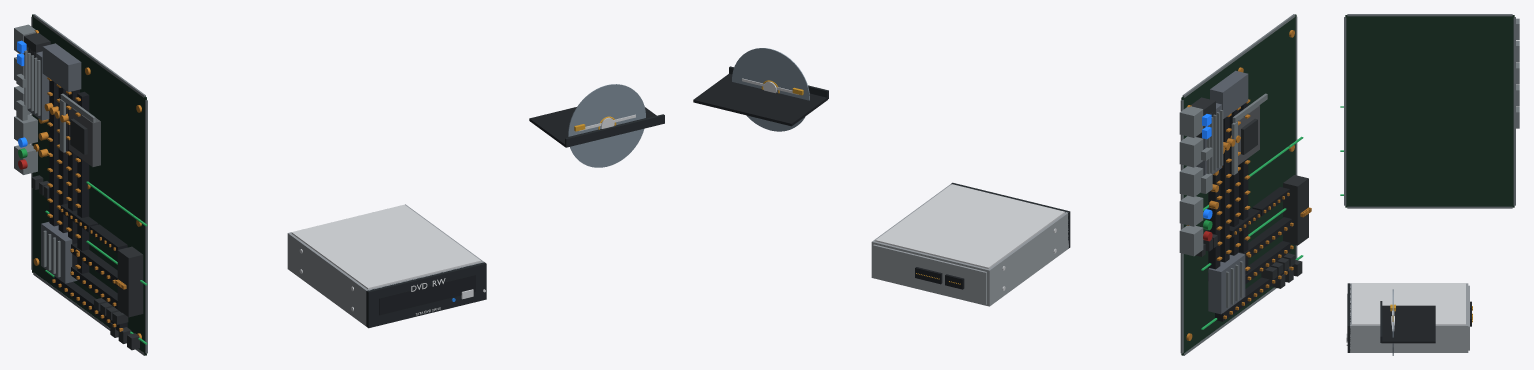
The model's file is motherboard_motherboard_fit.glb.
The picture shows the model from 3 angles, left to right: view 1: azimuth 30°, elevation 25°; view 2: azimuth 150°, elevation 25°; view 3: azimuth 270°, elevation 25°; orthographic projection. The views are drawn at different scales.
Visible parts, largest first — view 1: MB_PCB.001, OPTICAL_TopCover, OPTICAL_Disc, OPTICAL_Enclosure, OPTICAL_FrontBezel, MB_24Pin_ATX.001, OPTICAL_TraySlot, MB_VRMHeatsink_Top.001, MB_DIMMSlot_04.001, MB_DIMMSlot_01.001, MB_ChipsetHeatsink.001, OPTICAL_TrayBase (+13 smaller); view 2: MB_PCB.001, OPTICAL_TopCover, OPTICAL_Enclosure, OPTICAL_RearPanel, OPTICAL_TrayBase, OPTICAL_Disc, MB_24Pin_ATX.001, MB_ChipsetHeatsink.001, MB_VRMHeatsink_Top.001, MB_DIMMSlot_02.001, MB_DIMMSlot_03.001, MB_DIMMSlot_04.001 (+14 smaller); view 3: MB_PCB.001, OPTICAL_TopCover, OPTICAL_Enclosure, OPTICAL_TrayBase, MB_PCB_Edge_Front.001, MB_PCB_Edge_Rear.001, MB_PCB_Edge_Bottom.001, MB_PCB_Edge_Top.001, OPTICAL_FrontBezel.
Boxes of the visible parts, <box> form: MB_PCB.001: <box>32,14,146,355</box>; OPTICAL_TopCover: <box>291,204,480,289</box>; OPTICAL_Disc: <box>568,84,645,167</box>; OPTICAL_Enclosure: <box>287,204,484,326</box>; OPTICAL_FrontBezel: <box>366,262,486,328</box>; MB_24Pin_ATX.001: <box>117,246,143,317</box>; OPTICAL_TraySlot: <box>379,275,475,315</box>; MB_VRMHeatsink_Top.001: <box>42,43,81,92</box>; MB_DIMMSlot_04.001: <box>77,91,89,273</box>; MB_DIMMSlot_01.001: <box>49,80,58,226</box>; MB_ChipsetHeatsink.001: <box>41,222,77,283</box>; OPTICAL_TrayBase: <box>529,107,656,147</box>; MB_PCB.001: <box>1181,14,1296,355</box>; OPTICAL_TopCover: <box>875,184,1064,268</box>; OPTICAL_Enclosure: <box>871,184,1068,306</box>; OPTICAL_RearPanel: <box>873,244,986,304</box>; OPTICAL_TrayBase: <box>693,74,827,126</box>; OPTICAL_Disc: <box>732,48,809,131</box>; MB_24Pin_ATX.001: <box>1283,175,1308,245</box>; MB_ChipsetHeatsink.001: <box>1208,252,1245,314</box>; MB_VRMHeatsink_Top.001: <box>1210,70,1248,118</box>; MB_DIMMSlot_02.001: <box>1220,117,1229,262</box>; MB_DIMMSlot_03.001: <box>1229,110,1238,255</box>; MB_DIMMSlot_04.001: <box>1239,103,1248,274</box>; MB_PCB.001: <box>1345,15,1514,207</box>; OPTICAL_TopCover: <box>1352,283,1465,325</box>; OPTICAL_Enclosure: <box>1350,283,1468,352</box>; OPTICAL_TrayBase: <box>1381,305,1435,343</box>; MB_PCB_Edge_Front.001: <box>1344,17,1346,205</box>; MB_PCB_Edge_Rear.001: <box>1513,17,1515,205</box>; MB_PCB_Edge_Bottom.001: <box>1347,206,1512,208</box>; MB_PCB_Edge_Top.001: <box>1347,14,1512,16</box>; OPTICAL_FrontBezel: <box>1347,283,1350,352</box>.
Size of the model in its own units: 0.696 by 0.3403 by 0.258.
